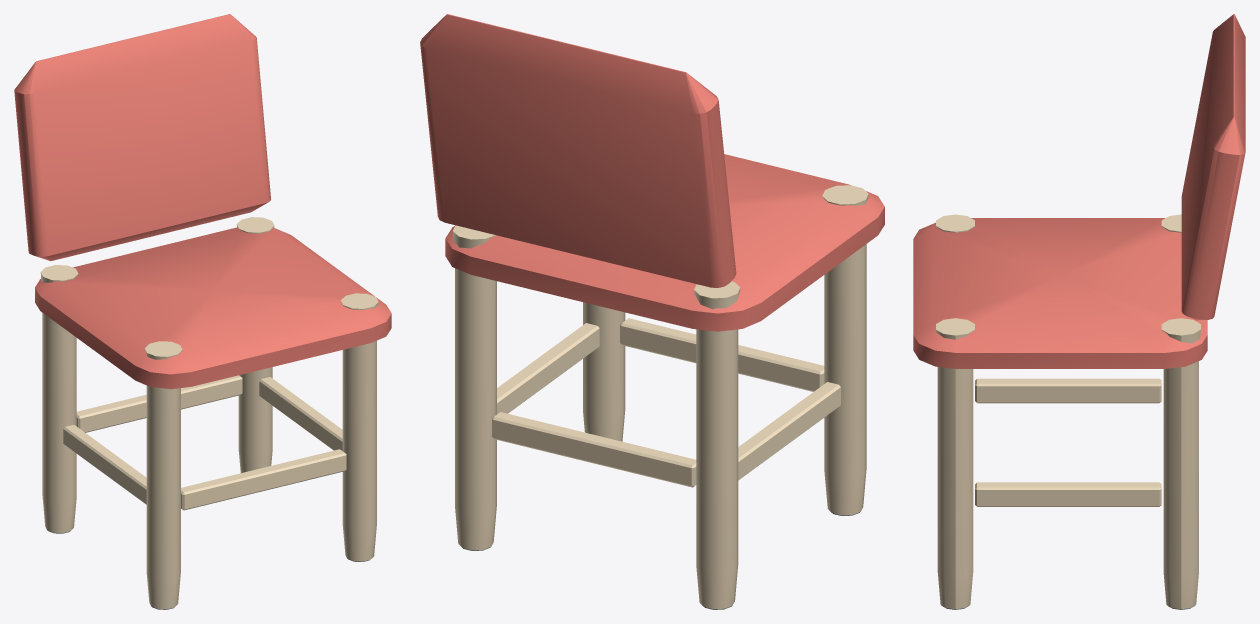
Rendered from nursery-and-primary-classroom-child-chair-low-108bc9d6__34985.glb.
The picture shows the model from 3 angles, left to right: view 1: azimuth 30°, elevation 25°; view 2: azimuth 150°, elevation 25°; view 3: azimuth 270°, elevation 25°; orthographic projection. The views are drawn at different scales.
Parts seen in each view (by area): view 1: child-chair-low; view 2: child-chair-low; view 3: child-chair-low.
Boxes of the visible parts, box(x1,y1,x2,y2) form: child-chair-low: box(14, 14, 391, 609); child-chair-low: box(420, 14, 884, 609); child-chair-low: box(913, 14, 1245, 609).
Bounding box in the file's own units: 0.32 × 0.5468 × 0.3386.
